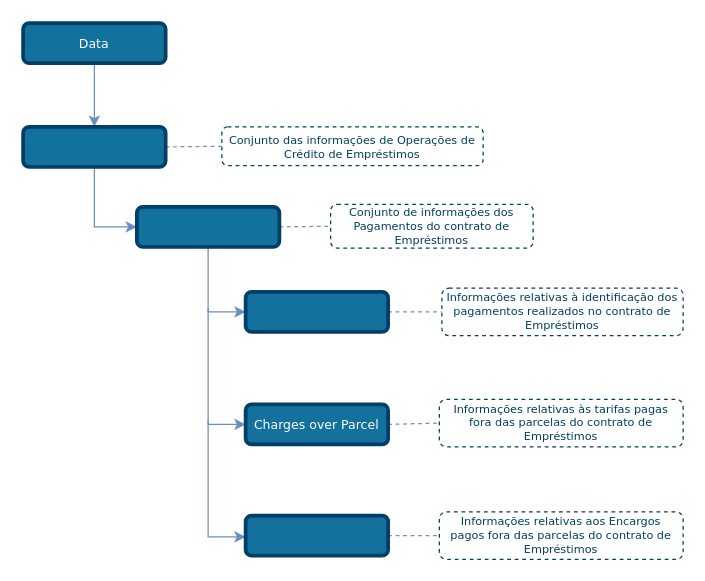
This 705x581 diagram has some shape labels left out. The centre of each missing label's shape, as x and y in pixels:
Loans: (x=94, y=146)
Payments: (x=207, y=226)
Releases: (x=316, y=311)
Taxes over Parcel: (x=316, y=535)
